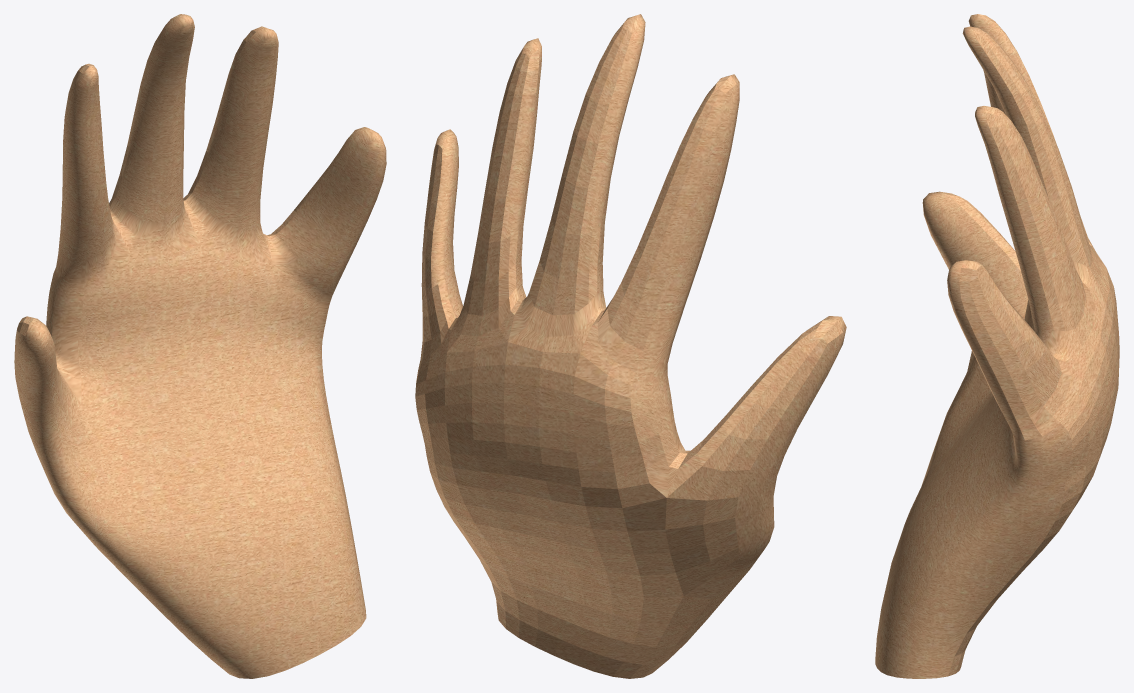
File: hand.fbx
3 renders of one model, left to right at view 1: azimuth 30°, elevation 25°; view 2: azimuth 150°, elevation 25°; view 3: azimuth 270°, elevation 25°, orthographic. The views are drawn at different scales.
Visible parts, largest first — view 1: Hand; view 2: Hand; view 3: Hand.
Boxes of the visible parts, <box> form: Hand: <box>14,14,386,678</box>; Hand: <box>415,14,846,678</box>; Hand: <box>875,14,1119,678</box>.
Size of the model in its own units: 257 by 426 by 154.
